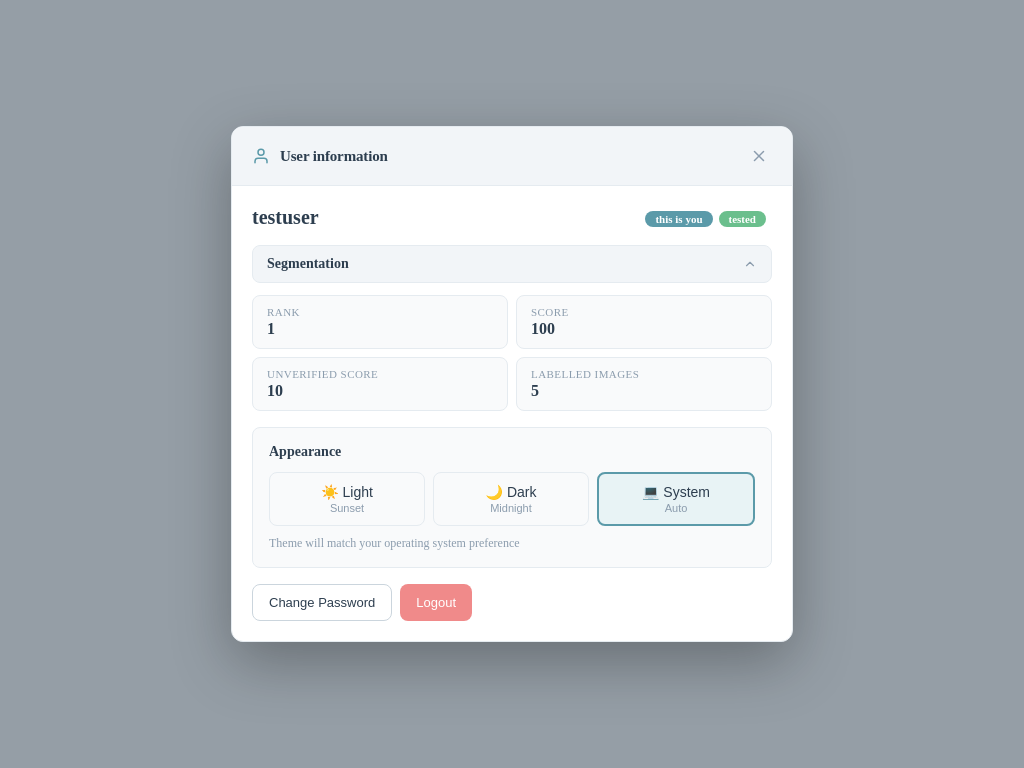
UserProfileModal - Password Change › validates password fields before submission
Click the button "Change Password": (322, 602) [252,584,392,621]
(page scrolled)
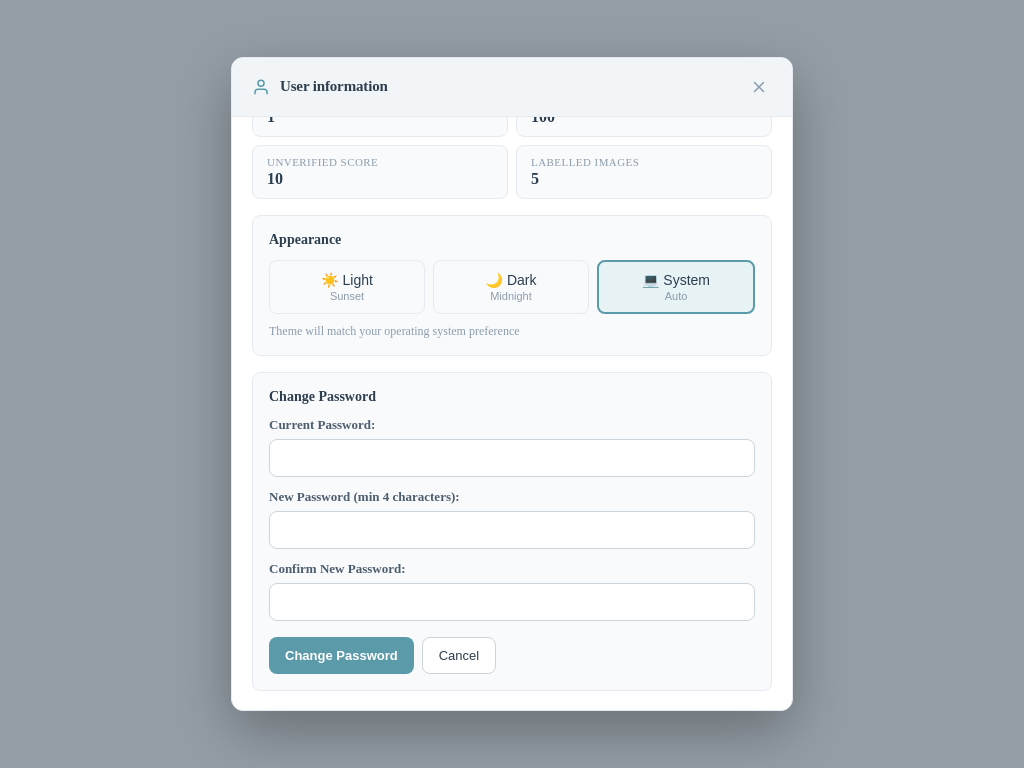
Now the password field labelled "Current Password:" is shown, box [269,439,755,477]
// Try to submit without filling fields
Click the button "Change Password": (341, 655) [269,637,414,674]
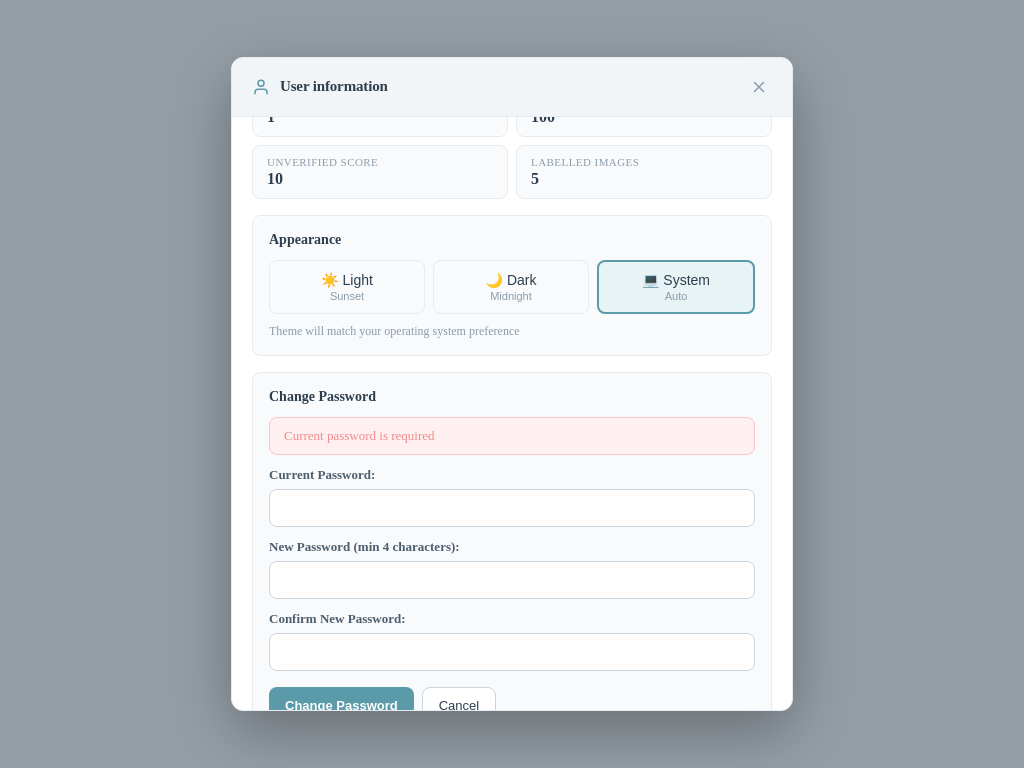
Now the text "Current password is required" is shown, box [269,417,755,455]
